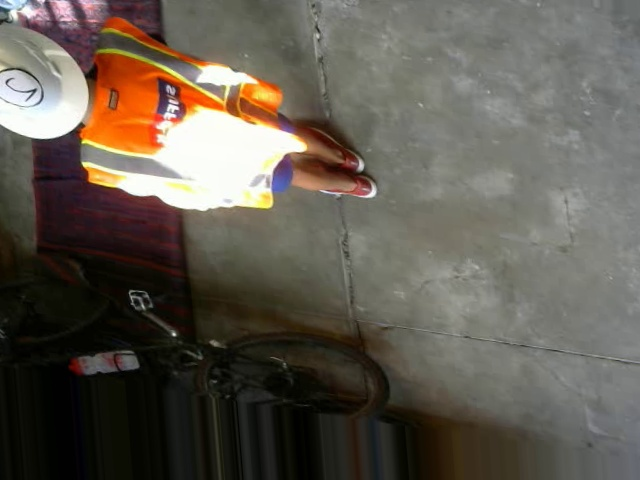two: (0, 64, 45, 110)
